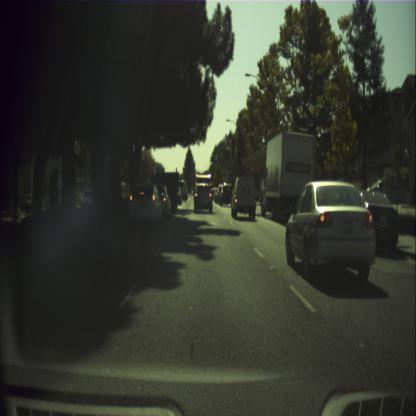Green: (212, 156, 214, 165)
